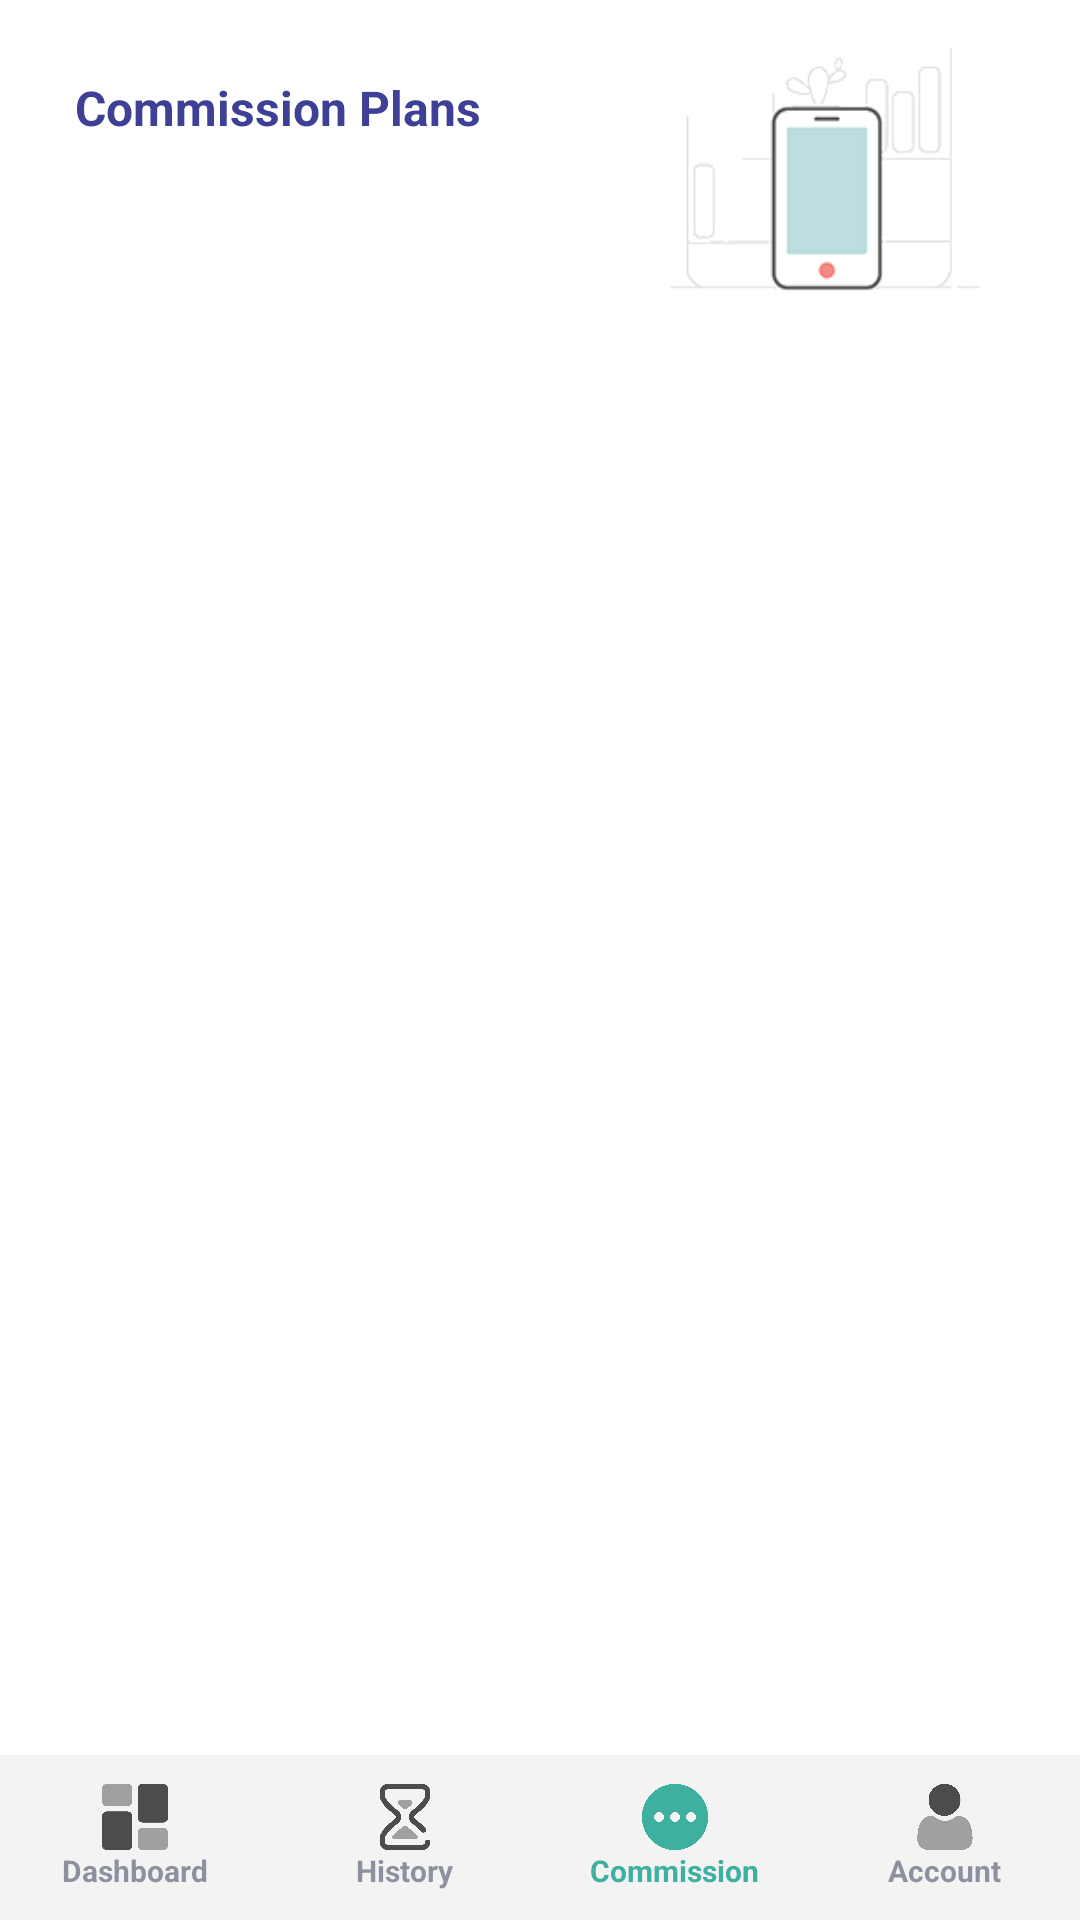

Named icons in this screenshot (1080*1920) and their centers, (x,y):
more: (675,1817)
